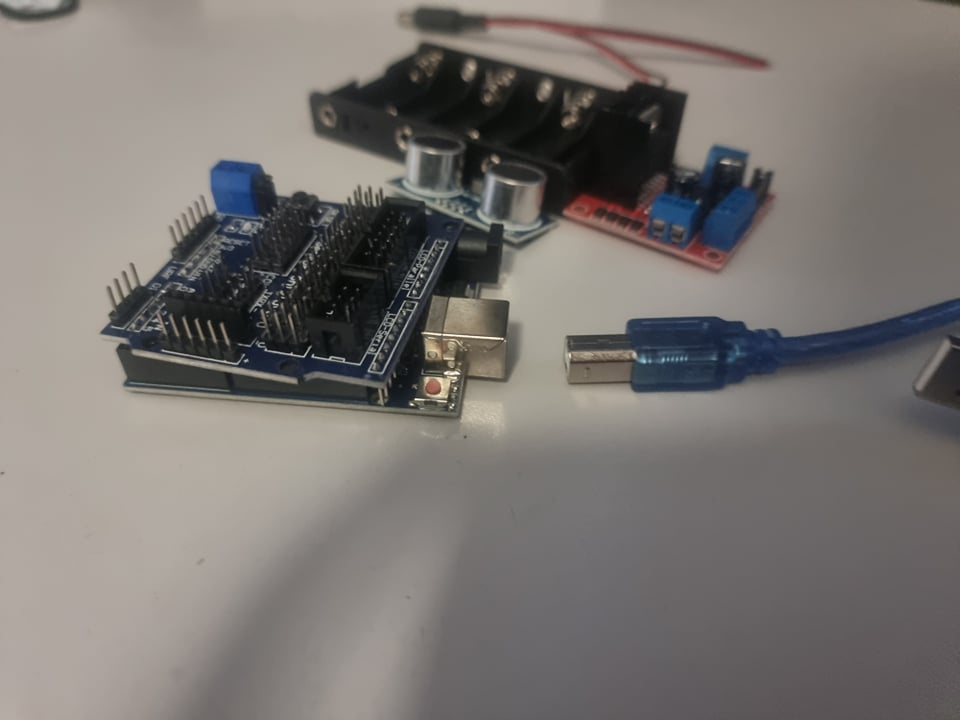5V EXPANSION: (101, 144, 403, 374)
BATTERY BOX: (312, 38, 577, 199)
MOTOR: (578, 74, 776, 273)
SENSOR: (386, 132, 548, 242)
UNO R3: (413, 222, 527, 427)
